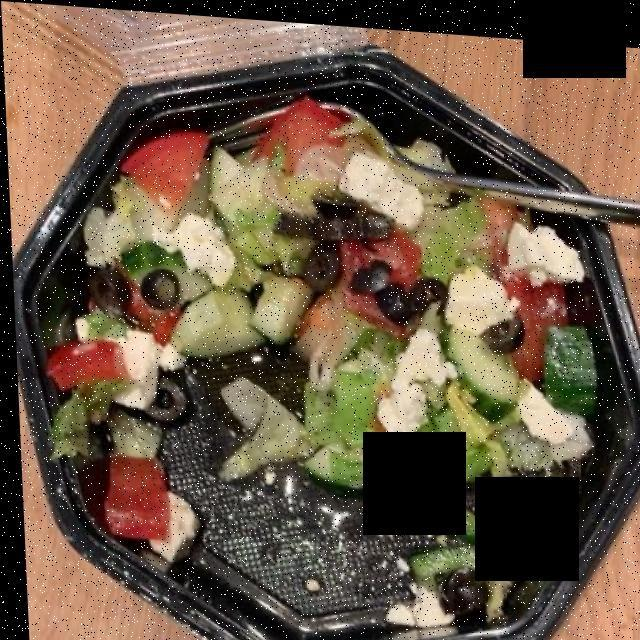salad: (56, 92, 614, 556)
